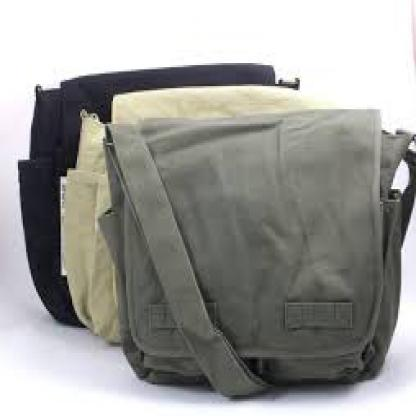morral: (59, 95, 396, 349), (103, 115, 411, 388), (8, 57, 306, 334)
